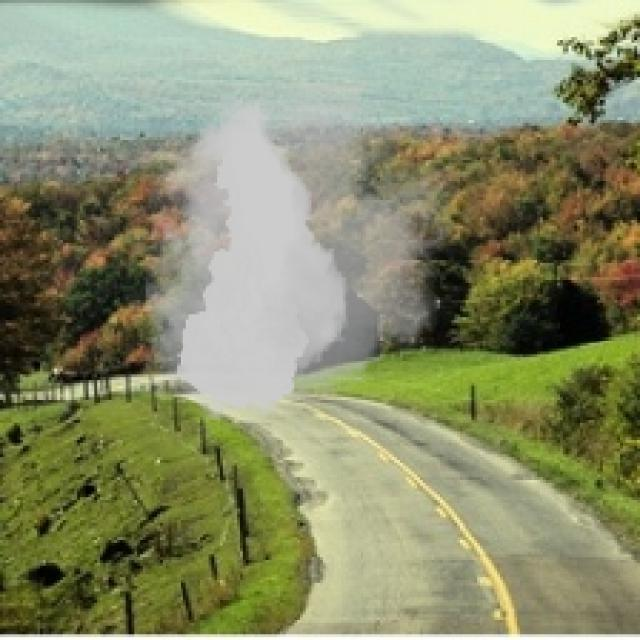Smoke: (117, 74, 474, 432)
